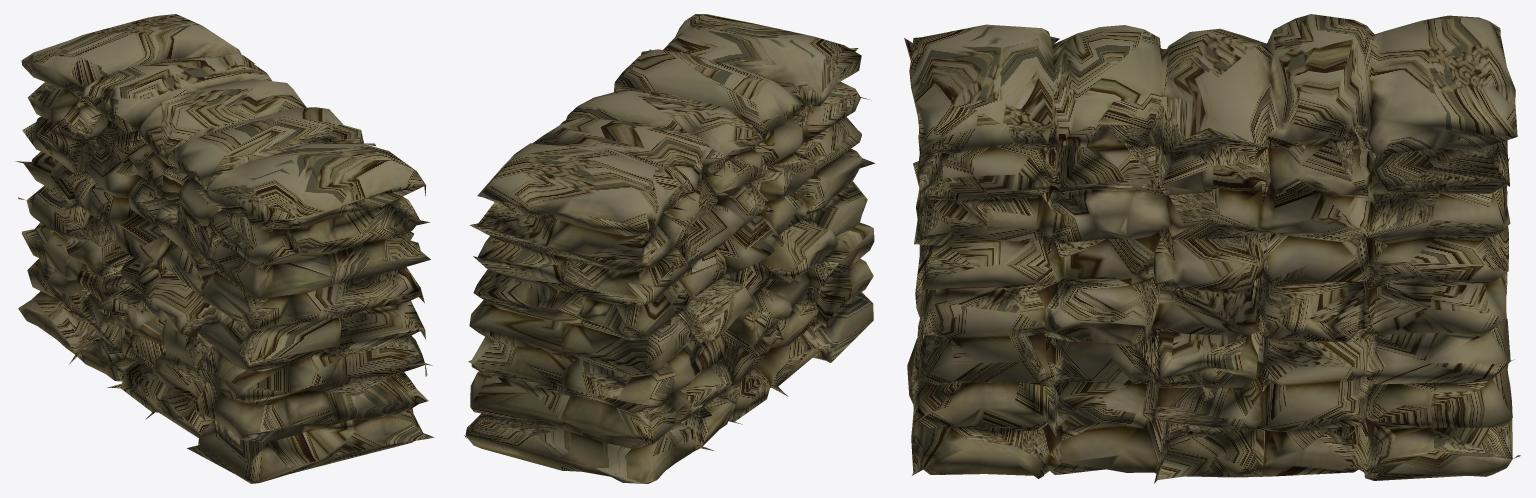
The model's file is blast_sandbag.glb.
3 views of the same model, side by side, from view 1: azimuth 30°, elevation 25°; view 2: azimuth 150°, elevation 25°; view 3: azimuth 270°, elevation 25° (orthographic). The views are drawn at different scales.
Visible parts, largest first — view 1: tripo_node_c6f34521-cf97-46d0-a70b-8a9e275f80a3; view 2: tripo_node_c6f34521-cf97-46d0-a70b-8a9e275f80a3; view 3: tripo_node_c6f34521-cf97-46d0-a70b-8a9e275f80a3.
Part boxes in pixels (x1,y1,x2,y2): tripo_node_c6f34521-cf97-46d0-a70b-8a9e275f80a3: (15, 14, 434, 483); tripo_node_c6f34521-cf97-46d0-a70b-8a9e275f80a3: (464, 14, 874, 483); tripo_node_c6f34521-cf97-46d0-a70b-8a9e275f80a3: (904, 14, 1520, 483).
Bounding box in the file's own units: 0.5293 × 0.6662 × 0.9942.
1 material, 1 textured.
